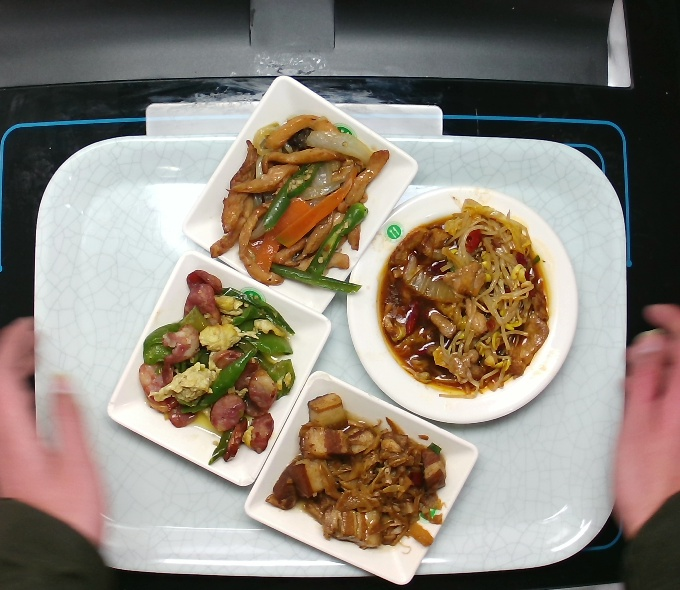wcq-HongShaoRou: (264, 388, 453, 554)
wcq-QingJiaoChaoDaChang: (130, 265, 301, 468)
wcq-QingJiaoRouSi: (205, 111, 391, 298)
wcq-ShuiZhuRouPian: (369, 193, 555, 406)
